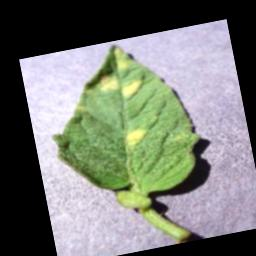Leaf_Mold: (120, 126, 151, 150), (120, 78, 147, 101), (98, 71, 123, 92)
